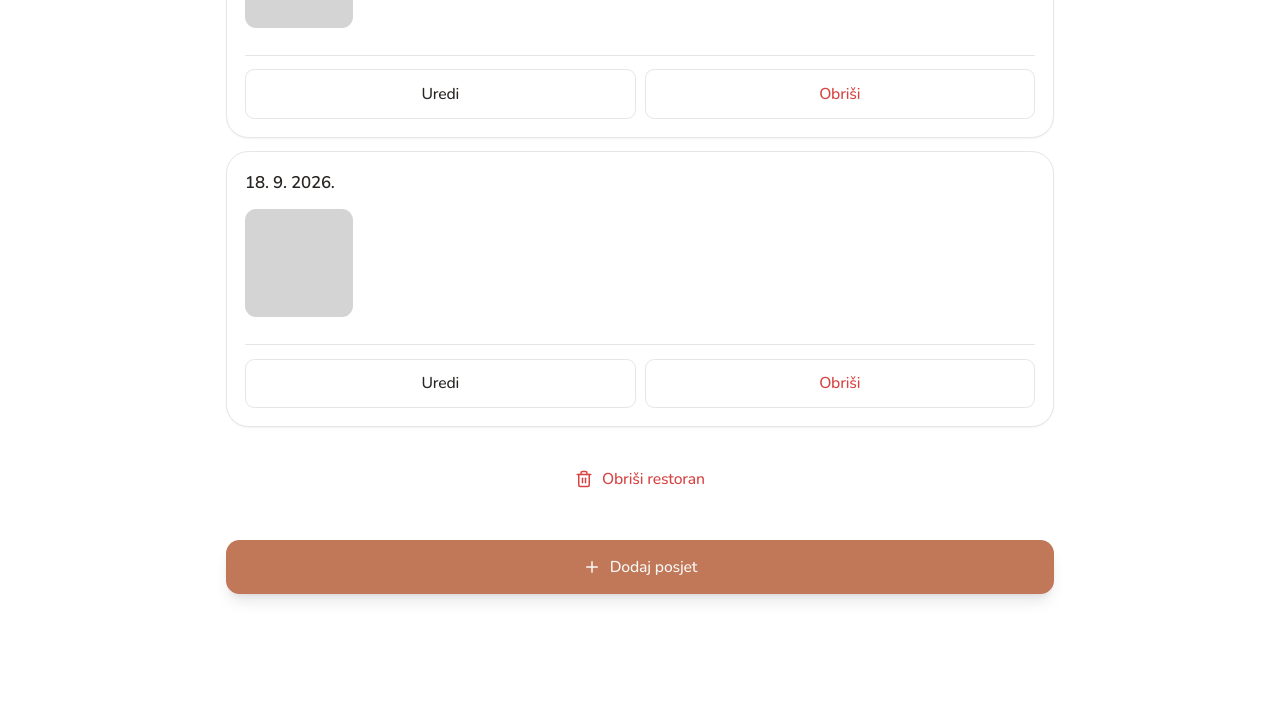
Test case: Restaurant V1 routes › shows the visit count and deletes only the selected ID when names are equal
(page scrolled)
Click the button "Obriši restoran": (640,479) [226,454,1054,504]
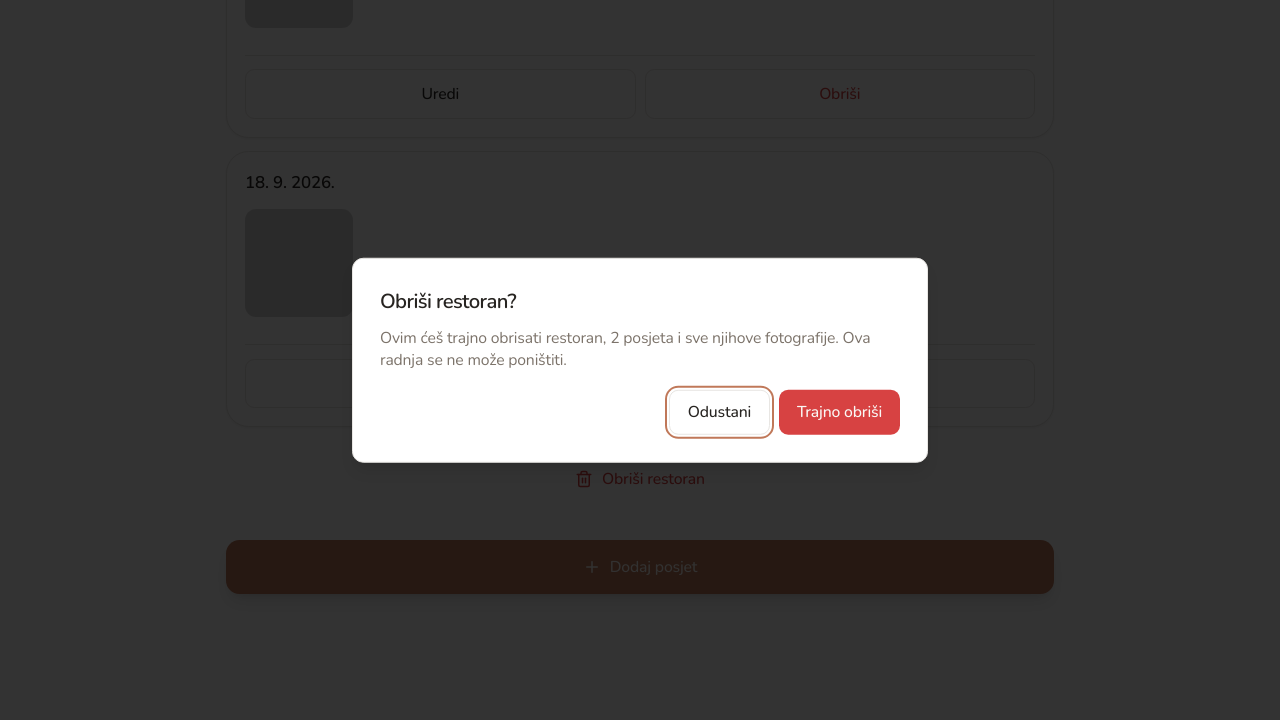
Check: the text "Ovim ćeš trajno obrisati restoran, 2 posjeta i sve njihove fotografije. Ova radnja se ne može poništiti." is shown, box [380,326,870,371]
Click the button "Trajno obriši": (840,412) [779,389,900,434]
(page scrolled)
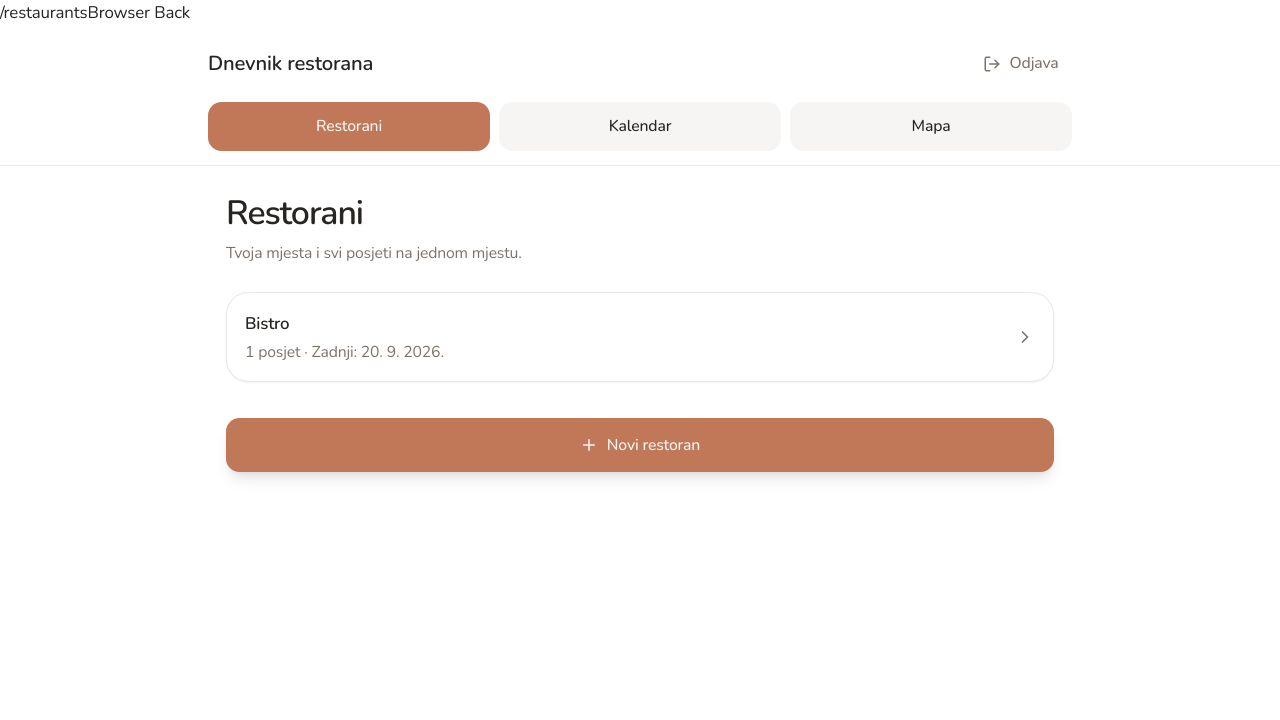
Check: the text with test id "route" reads "/restaurants", box [0,1,87,24]
